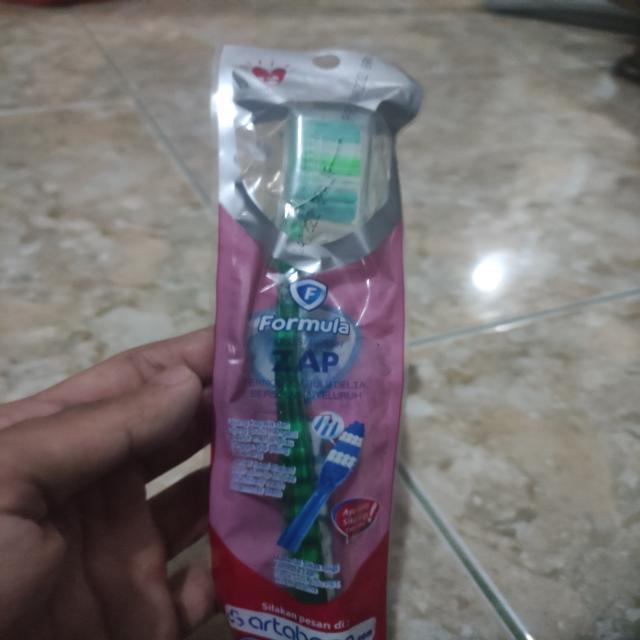toothbrush: (274, 107, 388, 620)
